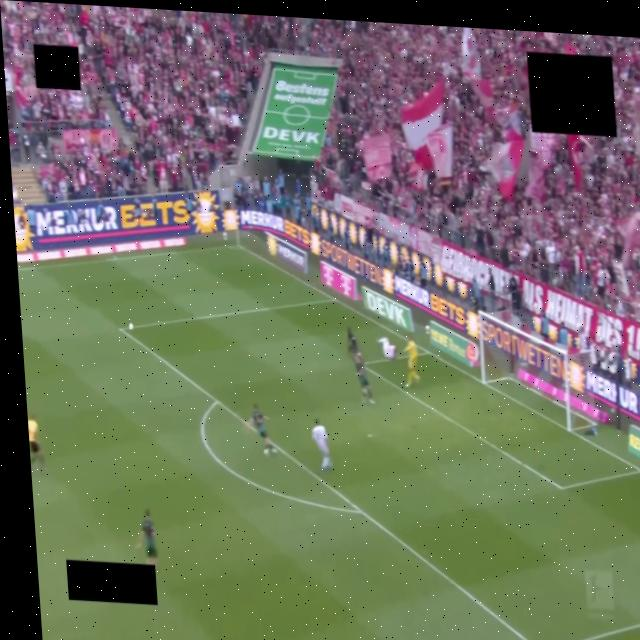ball: (129, 323, 133, 330)
player: (251, 405, 276, 454), (137, 510, 158, 565), (354, 352, 375, 404), (312, 418, 332, 470), (405, 337, 420, 387), (379, 338, 396, 359), (347, 327, 358, 356)
referee: (28, 416, 45, 471)
